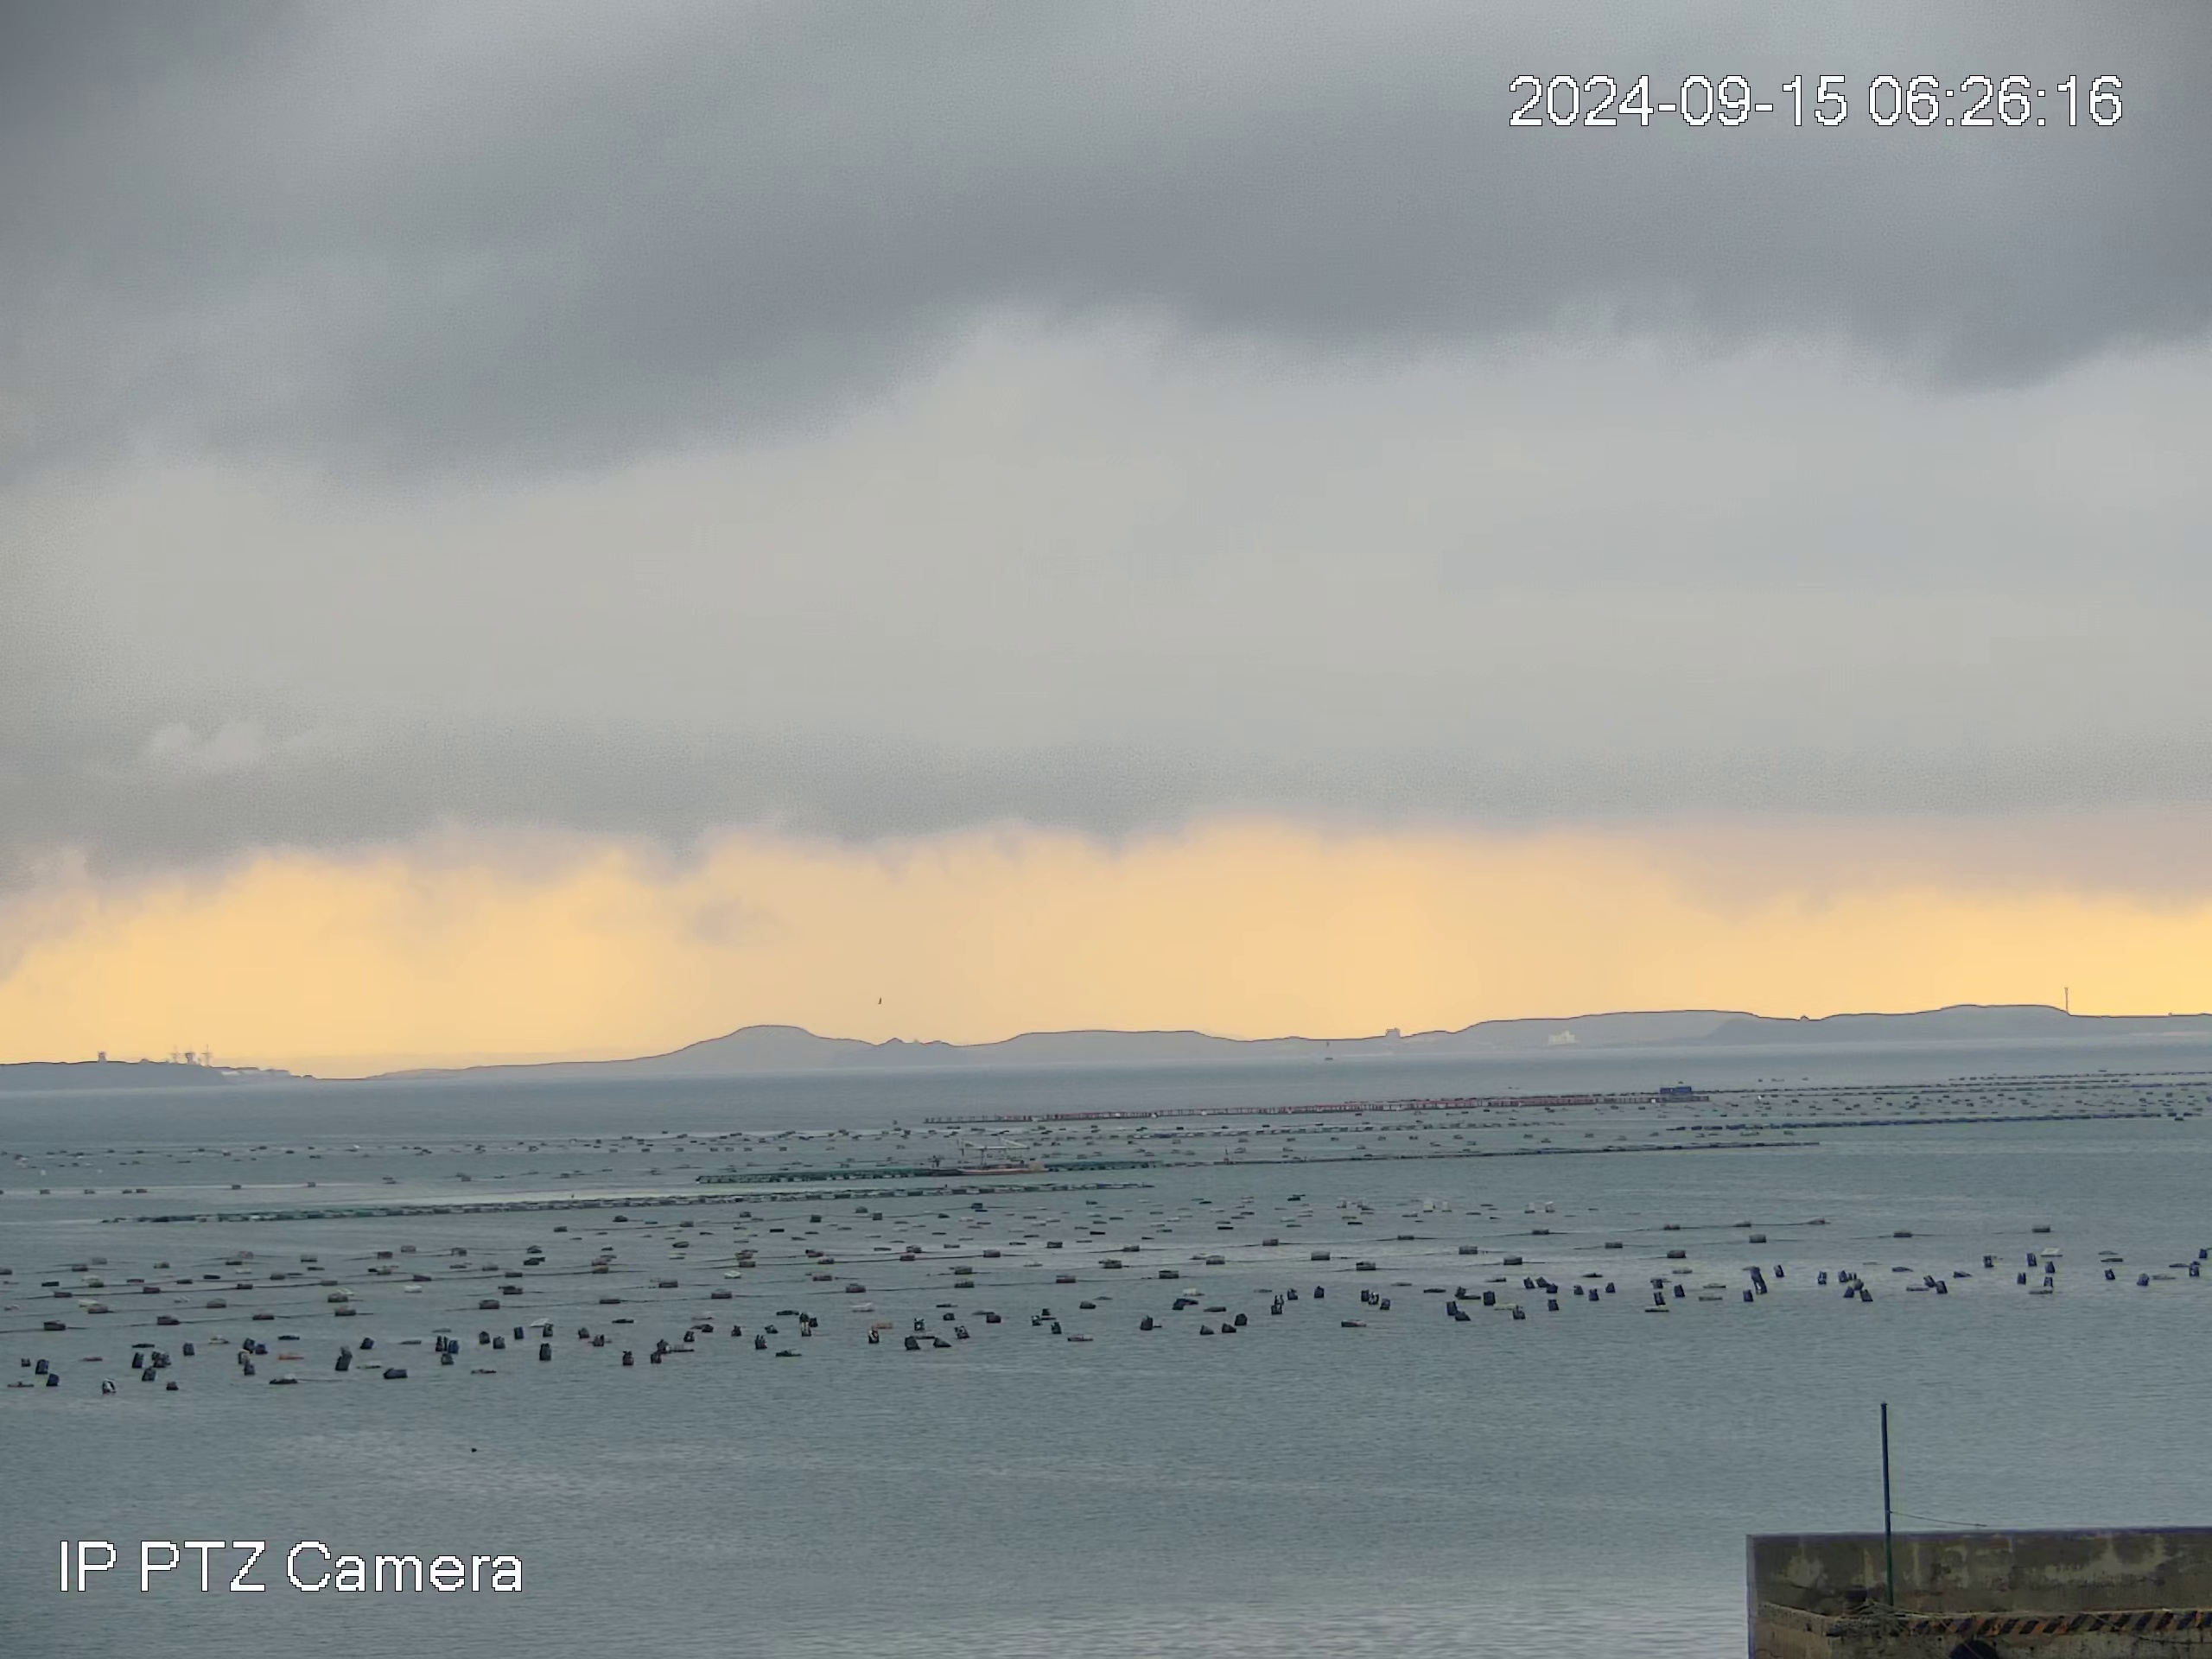boat: (951, 1133, 1051, 1176)
